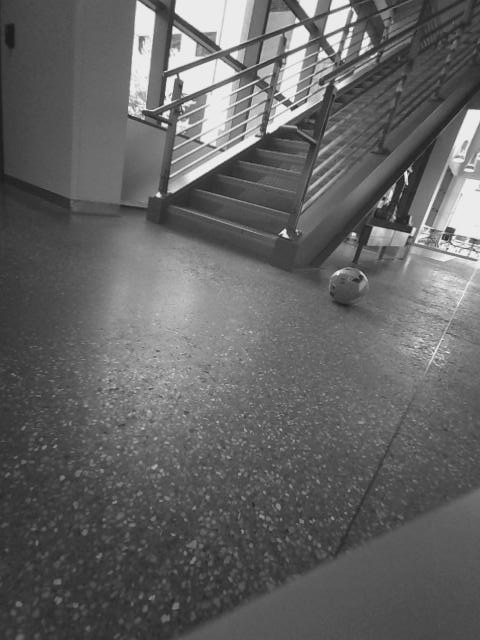ball: (75, 339, 213, 475)
